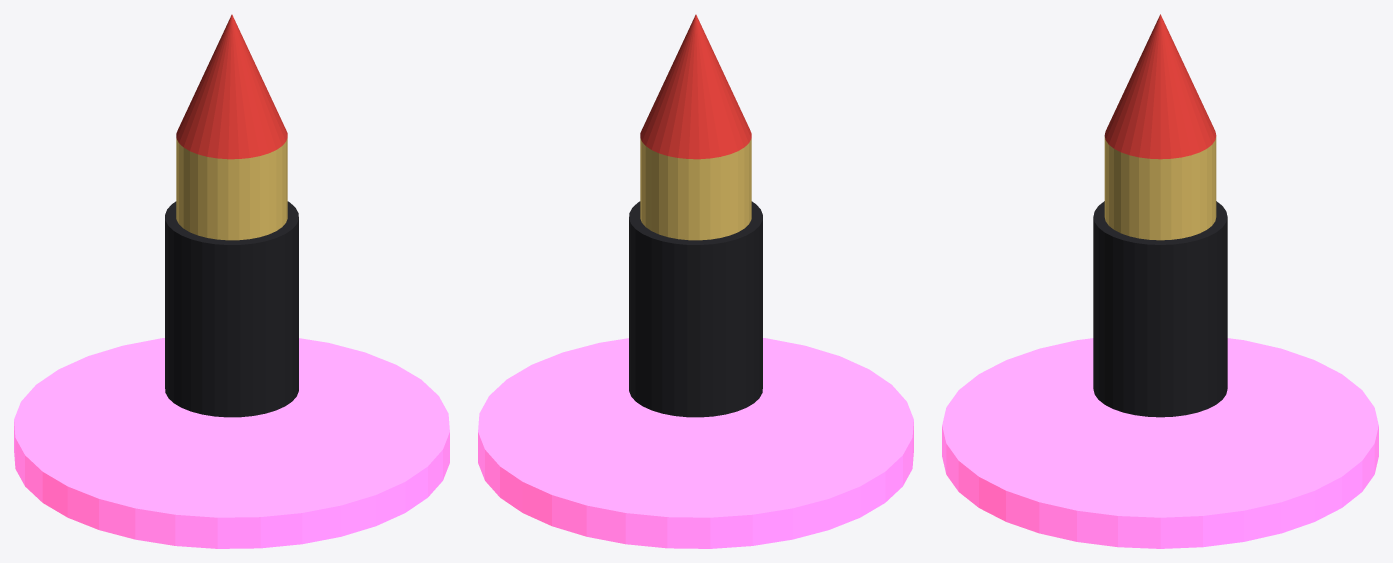
Rendered from beauty_lipstick.glb.
3 renders of one model, left to right at view 1: azimuth 30°, elevation 25°; view 2: azimuth 150°, elevation 25°; view 3: azimuth 270°, elevation 25°, orthographic.
Parts seen in each view (by area): view 1: 03_01_Popular_Beauty_Lipstick_ROOT_base, 03_01_Popular_Beauty_Lipstick_part_01, 03_01_Popular_Beauty_Lipstick_part_02, 03_01_Popular_Beauty_Lipstick_part_03; view 2: 03_01_Popular_Beauty_Lipstick_ROOT_base, 03_01_Popular_Beauty_Lipstick_part_01, 03_01_Popular_Beauty_Lipstick_part_02, 03_01_Popular_Beauty_Lipstick_part_03; view 3: 03_01_Popular_Beauty_Lipstick_ROOT_base, 03_01_Popular_Beauty_Lipstick_part_01, 03_01_Popular_Beauty_Lipstick_part_02, 03_01_Popular_Beauty_Lipstick_part_03.
Part boxes in pixels (<box>): 03_01_Popular_Beauty_Lipstick_ROOT_base: <box>14,338,449,548</box>; 03_01_Popular_Beauty_Lipstick_part_01: <box>165,201,298,417</box>; 03_01_Popular_Beauty_Lipstick_part_02: <box>176,138,287,240</box>; 03_01_Popular_Beauty_Lipstick_part_03: <box>176,14,287,159</box>; 03_01_Popular_Beauty_Lipstick_ROOT_base: <box>478,338,913,548</box>; 03_01_Popular_Beauty_Lipstick_part_01: <box>629,201,762,417</box>; 03_01_Popular_Beauty_Lipstick_part_02: <box>640,138,751,240</box>; 03_01_Popular_Beauty_Lipstick_part_03: <box>640,14,751,159</box>; 03_01_Popular_Beauty_Lipstick_ROOT_base: <box>942,338,1378,548</box>; 03_01_Popular_Beauty_Lipstick_part_01: <box>1093,201,1227,417</box>; 03_01_Popular_Beauty_Lipstick_part_02: <box>1104,137,1216,240</box>; 03_01_Popular_Beauty_Lipstick_part_03: <box>1104,14,1216,159</box>.
Bounding box in the file's own units: 0.76 × 0.85 × 0.76.
